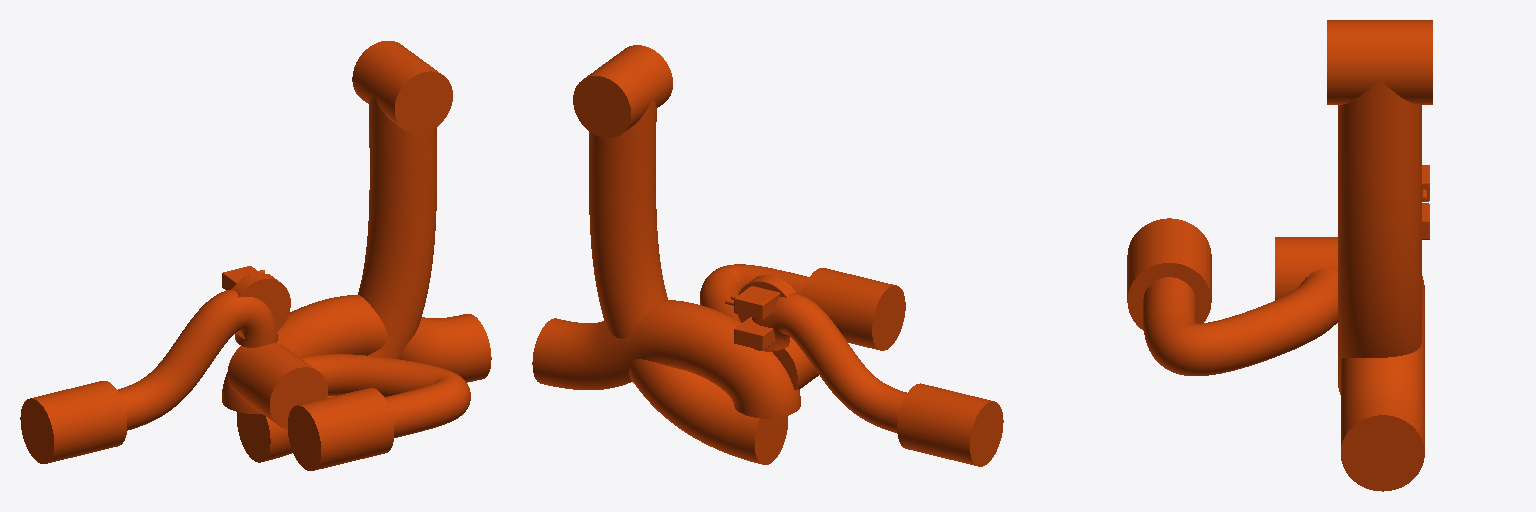
The robot description file, URDF, robot "iiwa7":
<?xml version='1.0' encoding='utf-8'?>
<robot name="iiwa7">
  <material name="Black">
    <color rgba="0.0 0.0 0.0 1.0" />
  </material>
  <material name="Blue">
    <color rgba="0.0 0.0 0.8 1.0" />
  </material>
  <material name="Green">
    <color rgba="0.0 0.8 0.0 1.0" />
  </material>
  <material name="Grey">
    <color rgba="0.4 0.4 0.4 1.0" />
  </material>
  <material name="Orange">
    <color rgba="1.0 0.4235294117647059 0.0392156862745098 1.0" />
  </material>
  <material name="Brown">
    <color rgba="0.8705882352941177 0.8117647058823529 0.7647058823529411 1.0" />
  </material>
  <material name="Red">
    <color rgba="0.8 0.0 0.0 1.0" />
  </material>
  <material name="White">
    <color rgba="1.0 1.0 1.0 1.0" />
  </material>
  <material name="Anthracite">
    <color rgba="0.16 0.17 0.19 1.0" />
  </material>
  <material name="MutedOrange">
    <color rgba="0.82 0.32 0.08 1.0" />
  </material>
  <material name="GreyishBlack">
    <color rgba="0.10 0.11 0.12 1.0" />
  </material>
  <link name="world" />
  <joint name="world_iiwa_joint" type="fixed">
    <origin rpy="0 0 0" xyz="0 0 0" />
    <parent link="world" />
    <child link="iiwa_link_0" />
  </joint>
  <link name="iiwa_link_0">
    <inertial>
      <origin rpy="0 0 0" xyz="-0.1 0 0.07" />
      <mass value="5" />
      <inertia ixx="0.05" ixy="0" ixz="0" iyy="0.06" iyz="0" izz="0.03" />
    </inertial>
    <visual>
      <origin rpy="0 0 0" xyz="0 0 0" />
      <geometry>
        <mesh filename="package://iiwa_description/meshes/iiwa7/visual/link_0.stl" />
      </geometry>
      <material name="Anthracite" />
    </visual>
    <collision>
      <origin rpy="0 0 0" xyz="0 0 0" />
      <geometry>
        <mesh filename="package://iiwa_description/meshes/iiwa7/collision/link_0.stl" />
      </geometry>
      <material name="Grey" />
    </collision>
    <self_collision_checking>
      <origin rpy="0 0 0" xyz="0 0 0" />
      <geometry>
        <capsule length="0.25" radius="0.15" />
      </geometry>
    </self_collision_checking>
  </link>
  <joint name="iiwa_joint_1" type="revolute">
    <parent link="iiwa_link_0" />
    <child link="iiwa_link_1" />
    <origin rpy="0 0 0" xyz="0 0 0.15" />
    <axis xyz="0 0 1" />
    <limit effort="300" lower="-2.9670597283903604" upper="2.9670597283903604" velocity="10" />
    <safety_controller k_position="100" k_velocity="2" soft_lower_limit="-2.9321531433504737" soft_upper_limit="2.9321531433504737" />
    <dynamics damping="0.5" />
  </joint>
  <link name="iiwa_link_1">
    <inertial>
      <origin rpy="0 0 0" xyz="0 -0.03 0.12" />
      <mass value="3.4525" />
      <inertia ixx="0.02183" ixy="0" ixz="0" iyy="0.007703" iyz="-0.003887" izz="0.02083" />
    </inertial>
    <visual>
      <origin rpy="0 0 0" xyz="0 0 0.0075" />
      <geometry>
        <mesh filename="package://iiwa_description/meshes/iiwa7/visual/link_1.stl" />
      </geometry>
      <material name="MutedOrange" />
    </visual>
    <collision>
      <origin rpy="0 0 0" xyz="0 0 0.0075" />
      <geometry>
        <mesh filename="package://iiwa_description/meshes/iiwa7/collision/link_1.stl" />
      </geometry>
      <material name="Orange" />
    </collision>
  </link>
  <joint name="iiwa_joint_2" type="revolute">
    <parent link="iiwa_link_1" />
    <child link="iiwa_link_2" />
    <origin rpy="1.5707963267948966   0 3.141592653589793" xyz="0 0 0.19" />
    <axis xyz="0 0 1" />
    <limit effort="300" lower="-2.0943951023931953" upper="2.0943951023931953" velocity="10" />
    <safety_controller k_position="100" k_velocity="2" soft_lower_limit="-2.0594885173533086" soft_upper_limit="2.0594885173533086" />
    <dynamics damping="0.5" />
  </joint>
  <link name="iiwa_link_2">
    <inertial>
      <origin rpy="0 0 0" xyz="0.0003 0.059 0.042" />
      <mass value="3.4821" />
      <inertia ixx="0.02076" ixy="0" ixz="-0.003626" iyy="0.02179" iyz="0" izz="0.00779" />
    </inertial>
    <visual>
      <origin rpy="0 0 0" xyz="0 0 0" />
      <geometry>
        <mesh filename="package://iiwa_description/meshes/iiwa7/visual/link_2.stl" />
      </geometry>
      <material name="MutedOrange" />
    </visual>
    <collision>
      <origin rpy="0 0 0" xyz="0 0 0" />
      <geometry>
        <mesh filename="package://iiwa_description/meshes/iiwa7/collision/link_2.stl" />
      </geometry>
      <material name="Orange" />
    </collision>
  </link>
  <joint name="iiwa_joint_3" type="revolute">
    <parent link="iiwa_link_2" />
    <child link="iiwa_link_3" />
    <origin rpy="1.5707963267948966 0 3.141592653589793" xyz="0 0.21 0" />
    <axis xyz="0 0 1" />
    <limit effort="300" lower="-2.9670597283903604" upper="2.9670597283903604" velocity="10" />
    <safety_controller k_position="100" k_velocity="2" soft_lower_limit="-2.9321531433504737" soft_upper_limit="2.9321531433504737" />
    <dynamics damping="0.5" />
  </joint>
  <link name="iiwa_link_3">
    <inertial>
      <origin rpy="0 0 0" xyz="0 0.03 0.13" />
      <mass value="4.05623" />
      <inertia ixx="0.03204" ixy="0" ixz="0" iyy="0.00972" iyz="0.006227" izz="0.03042" />
    </inertial>
    <visual>
      <origin rpy="0 0 0" xyz="0 0 -0.026" />
      <geometry>
        <mesh filename="package://iiwa_description/meshes/iiwa7/visual/link_3.stl" />
      </geometry>
      <material name="MutedOrange" />
    </visual>
    <collision>
      <origin rpy="0 0 0" xyz="0 0 -0.026" />
      <geometry>
        <mesh filename="package://iiwa_description/meshes/iiwa7/collision/link_3.stl" />
      </geometry>
      <material name="Orange" />
    </collision>
  </link>
  <joint name="iiwa_joint_4" type="revolute">
    <parent link="iiwa_link_3" />
    <child link="iiwa_link_4" />
    <origin rpy="1.5707963267948966 0 0" xyz="0 0 0.19" />
    <axis xyz="0 0 1" />
    <limit effort="300" lower="-2.0943951023931953" upper="2.0943951023931953" velocity="10" />
    <safety_controller k_position="100" k_velocity="2" soft_lower_limit="-2.0594885173533086" soft_upper_limit="2.0594885173533086" />
    <dynamics damping="0.5" />
  </joint>
  <link name="iiwa_link_4">
    <inertial>
      <origin rpy="0 0 0" xyz="0 0.067 0.034" />
      <mass value="3.4822" />
      <inertia ixx="0.02178" ixy="0" ixz="0" iyy="0.02075" iyz="-0.003625" izz="0.007785" />
    </inertial>
    <visual>
      <origin rpy="0 0 0" xyz="0 0 0" />
      <geometry>
        <mesh filename="package://iiwa_description/meshes/iiwa7/visual/link_4.stl" />
      </geometry>
      <material name="MutedOrange" />
    </visual>
    <collision>
      <origin rpy="0 0 0" xyz="0 0 0" />
      <geometry>
        <mesh filename="package://iiwa_description/meshes/iiwa7/collision/link_4.stl" />
      </geometry>
      <material name="Orange" />
    </collision>
  </link>
  <joint name="iiwa_joint_5" type="revolute">
    <parent link="iiwa_link_4" />
    <child link="iiwa_link_5" />
    <origin rpy="-1.5707963267948966 3.141592653589793 0" xyz="0 0.21 0" />
    <axis xyz="0 0 1" />
    <limit effort="300" lower="-2.9670597283903604" upper="2.9670597283903604" velocity="10" />
    <safety_controller k_position="100" k_velocity="2" soft_lower_limit="-2.9321531433504737" soft_upper_limit="2.9321531433504737" />
    <dynamics damping="0.5" />
  </joint>
  <link name="iiwa_link_5">
    <inertial>
      <origin rpy="0 0 0" xyz="0.0001 0.021 0.076" />
      <mass value="2.1633" />
      <inertia ixx="0.01287" ixy="0" ixz="0" iyy="0.005708" iyz="-0.003946" izz="0.01112" />
    </inertial>
    <visual>
      <origin rpy="0 0 0" xyz="0 0 -0.026" />
      <geometry>
        <mesh filename="package://iiwa_description/meshes/iiwa7/visual/link_5.stl" />
      </geometry>
      <material name="MutedOrange" />
    </visual>
    <collision>
      <origin rpy="0 0 0" xyz="0 0 -0.026" />
      <geometry>
        <mesh filename="package://iiwa_description/meshes/iiwa7/collision/link_5.stl" />
      </geometry>
      <material name="Orange" />
    </collision>
  </link>
  <joint name="iiwa_joint_6" type="revolute">
    <parent link="iiwa_link_5" />
    <child link="iiwa_link_6" />
    <origin rpy="1.5707963267948966 0 0" xyz="0 0.06070 0.19" />
    <axis xyz="0 0 1" />
    <limit effort="300" lower="-2.0943951023931953" upper="2.0943951023931953" velocity="10" />
    <safety_controller k_position="100" k_velocity="2" soft_lower_limit="-2.0594885173533086" soft_upper_limit="2.0594885173533086" />
    <dynamics damping="0.5" />
  </joint>
  <link name="iiwa_link_6">
    <inertial>
      <origin rpy="0 0 0" xyz="0 0.0006 0.0004" />
      <mass value="2.3466" />
      <inertia ixx="0.006509" ixy="0" ixz="0" iyy="0.006259" iyz="0.00031891" izz="0.004527" />
    </inertial>
    <visual>
      <origin rpy="0 0 0" xyz="0 0 0" />
      <geometry>
        <mesh filename="package://iiwa_description/meshes/iiwa7/visual/link_6.stl" />
      </geometry>
      <material name="MutedOrange" />
    </visual>
    <collision>
      <origin rpy="0 0 0" xyz="0 0 0" />
      <geometry>
        <mesh filename="package://iiwa_description/meshes/iiwa7/collision/link_6.stl" />
      </geometry>
      <material name="Orange" />
    </collision>
  </link>
  <joint name="iiwa_joint_7" type="revolute">
    <parent link="iiwa_link_6" />
    <child link="iiwa_link_7" />
    <origin rpy="-1.5707963267948966 3.141592653589793 0" xyz="0 0.081 0.06070" />
    <axis xyz="0 0 1" />
    <limit effort="300" lower="-3.0543261909900763" upper="3.0543261909900763" velocity="10" />
    <safety_controller k_position="100" k_velocity="2" soft_lower_limit="-3.01941960595019" soft_upper_limit="3.01941960595019" />
    <dynamics damping="0.5" />
  </joint>
  <link name="iiwa_link_7">
    <inertial>
      <origin rpy="0 0 0" xyz="0 0 0.02" />
      <mass value="3.129" />
      <inertia ixx="0.01464" ixy="0.0005912" ixz="0" iyy="0.01465" iyz="0" izz="0.002872" />
    </inertial>
    <visual>
      <origin rpy="0 0 0" xyz="0 0 -0.0005" />
      <geometry>
        <mesh filename="package://iiwa_description/meshes/iiwa7/visual/link_7.stl" />
      </geometry>
      <material name="GreyishBlack" />
    </visual>
    <collision>
      <origin rpy="0 0 0" xyz="0 0 -0.0005" />
      <geometry>
        <mesh filename="package://iiwa_description/meshes/iiwa7/collision/link_7.stl" />
      </geometry>
      <material name="Grey" />
    </collision>
  </link>
  <joint name="iiwa_joint_ee" type="fixed">
    <parent link="iiwa_link_7" />
    <child link="iiwa_link_ee" />
    <origin rpy="0 0 0" xyz="0 0 0.045" />
  </joint>
  <link name="iiwa_link_ee">
    </link>
  <gazebo reference="iiwa_link_0">
    <material>Gazebo/Grey</material>
    <mu1>0.2</mu1>
    <mu2>0.2</mu2>
  </gazebo>
  <gazebo reference="iiwa_link_1">
    <material>Gazebo/Orange</material>
    <mu1>0.2</mu1>
    <mu2>0.2</mu2>
  </gazebo>
  <gazebo reference="iiwa_link_2">
    <material>Gazebo/Orange</material>
    <mu1>0.2</mu1>
    <mu2>0.2</mu2>
  </gazebo>
  <gazebo reference="iiwa_link_3">
    <material>Gazebo/Orange</material>
    <mu1>0.2</mu1>
    <mu2>0.2</mu2>
  </gazebo>
  <gazebo reference="iiwa_link_4">
    <material>Gazebo/Orange</material>
    <mu1>0.2</mu1>
    <mu2>0.2</mu2>
  </gazebo>
  <gazebo reference="iiwa_link_5">
    <material>Gazebo/Orange</material>
    <mu1>0.2</mu1>
    <mu2>0.2</mu2>
  </gazebo>
  <gazebo reference="iiwa_link_6">
    <material>Gazebo/Orange</material>
    <mu1>0.2</mu1>
    <mu2>0.2</mu2>
  </gazebo>
  <gazebo reference="iiwa_link_7">
    <material>Gazebo/Grey</material>
    <mu1>0.2</mu1>
    <mu2>0.2</mu2>
  </gazebo>
  <transmission name="iiwa_tran_1">
    <robotNamespace>/iiwa</robotNamespace>
    <type>transmission_interface/SimpleTransmission</type>
    <joint name="iiwa_joint_1">
      <hardwareInterface>PositionJointInterface</hardwareInterface>
    </joint>
    <actuator name="iiwa_motor_1">
      <hardwareInterface>PositionJointInterface</hardwareInterface>
      <mechanicalReduction>1</mechanicalReduction>
    </actuator>
  </transmission>
  <transmission name="iiwa_tran_2">
    <robotNamespace>/iiwa</robotNamespace>
    <type>transmission_interface/SimpleTransmission</type>
    <joint name="iiwa_joint_2">
      <hardwareInterface>PositionJointInterface</hardwareInterface>
    </joint>
    <actuator name="iiwa_motor_2">
      <hardwareInterface>PositionJointInterface</hardwareInterface>
      <mechanicalReduction>1</mechanicalReduction>
    </actuator>
  </transmission>
  <transmission name="iiwa_tran_3">
    <robotNamespace>/iiwa</robotNamespace>
    <type>transmission_interface/SimpleTransmission</type>
    <joint name="iiwa_joint_3">
      <hardwareInterface>PositionJointInterface</hardwareInterface>
    </joint>
    <actuator name="iiwa_motor_3">
      <hardwareInterface>PositionJointInterface</hardwareInterface>
      <mechanicalReduction>1</mechanicalReduction>
    </actuator>
  </transmission>
  <transmission name="iiwa_tran_4">
    <robotNamespace>/iiwa</robotNamespace>
    <type>transmission_interface/SimpleTransmission</type>
    <joint name="iiwa_joint_4">
      <hardwareInterface>PositionJointInterface</hardwareInterface>
    </joint>
    <actuator name="iiwa_motor_4">
      <hardwareInterface>PositionJointInterface</hardwareInterface>
      <mechanicalReduction>1</mechanicalReduction>
    </actuator>
  </transmission>
  <transmission name="iiwa_tran_5">
    <robotNamespace>/iiwa</robotNamespace>
    <type>transmission_interface/SimpleTransmission</type>
    <joint name="iiwa_joint_5">
      <hardwareInterface>PositionJointInterface</hardwareInterface>
    </joint>
    <actuator name="iiwa_motor_5">
      <hardwareInterface>PositionJointInterface</hardwareInterface>
      <mechanicalReduction>1</mechanicalReduction>
    </actuator>
  </transmission>
  <transmission name="iiwa_tran_6">
    <robotNamespace>/iiwa</robotNamespace>
    <type>transmission_interface/SimpleTransmission</type>
    <joint name="iiwa_joint_6">
      <hardwareInterface>PositionJointInterface</hardwareInterface>
    </joint>
    <actuator name="iiwa_motor_6">
      <hardwareInterface>PositionJointInterface</hardwareInterface>
      <mechanicalReduction>1</mechanicalReduction>
    </actuator>
  </transmission>
  <transmission name="iiwa_tran_7">
    <robotNamespace>/iiwa</robotNamespace>
    <type>transmission_interface/SimpleTransmission</type>
    <joint name="iiwa_joint_7">
      <hardwareInterface>PositionJointInterface</hardwareInterface>
    </joint>
    <actuator name="iiwa_motor_7">
      <hardwareInterface>PositionJointInterface</hardwareInterface>
      <mechanicalReduction>1</mechanicalReduction>
    </actuator>
  </transmission>
</robot>

--- Facts derived from the render (not from the file) ---
3 views of the same robot in one strip: view 1: azimuth 30°, elevation 25°; view 2: azimuth 150°, elevation 25°; view 3: azimuth 270°, elevation 25° (orthographic).
Robot: iiwa7 — 10 links, 9 joints (7 revolute, 2 fixed); root link world; default pose: all joints at 0.
Links seen in each view (by area): view 1: iiwa_link_2, iiwa_link_4, iiwa_link_5, iiwa_link_3, iiwa_link_6; view 2: iiwa_link_2, iiwa_link_3, iiwa_link_5, iiwa_link_4, iiwa_link_6; view 3: iiwa_link_2, iiwa_link_4, iiwa_link_3, iiwa_link_6.
Link boxes in pixels (bbox=[...]): iiwa_link_2: bbox=[237, 41, 452, 462]; iiwa_link_4: bbox=[227, 343, 470, 470]; iiwa_link_5: bbox=[20, 289, 277, 463]; iiwa_link_3: bbox=[222, 295, 491, 413]; iiwa_link_6: bbox=[222, 266, 290, 338]; iiwa_link_2: bbox=[573, 45, 787, 464]; iiwa_link_3: bbox=[532, 300, 800, 418]; iiwa_link_5: bbox=[752, 293, 1003, 466]; iiwa_link_4: bbox=[700, 264, 905, 389]; iiwa_link_6: bbox=[725, 275, 795, 350]; iiwa_link_2: bbox=[1327, 20, 1432, 394]; iiwa_link_4: bbox=[1127, 218, 1337, 375]; iiwa_link_3: bbox=[1341, 276, 1424, 491]; iiwa_link_6: bbox=[1422, 165, 1429, 239].
Bounding box of the posed robot: 3 × 1.45 × 2.4 m (x, y, z).
Meshes: 8 distinct files referenced, 5 mesh visuals loaded (5 binary STL); not drawn: 3 (reference not matched to a file when rendering).
